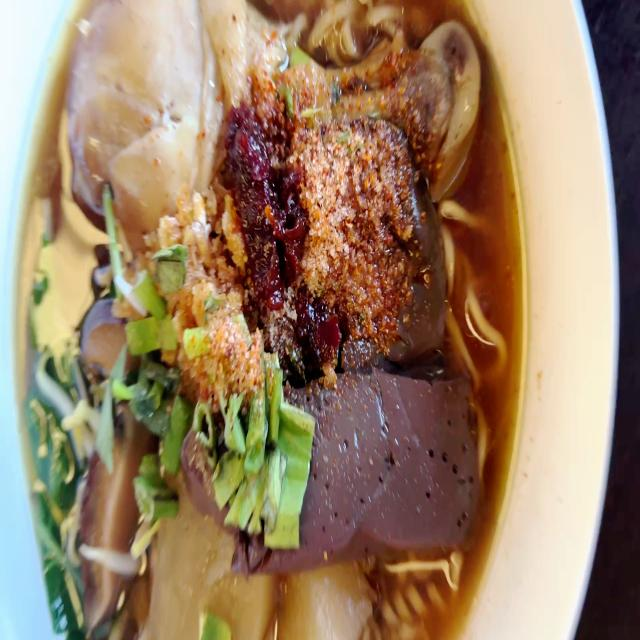boiled_chicken_blood_jelly: (269, 371, 476, 548), (392, 155, 452, 349)
chicken_drumstick: (65, 0, 488, 261)
daikon_radish: (140, 510, 267, 640), (280, 533, 379, 640)
noodle: (0, 0, 522, 640)
